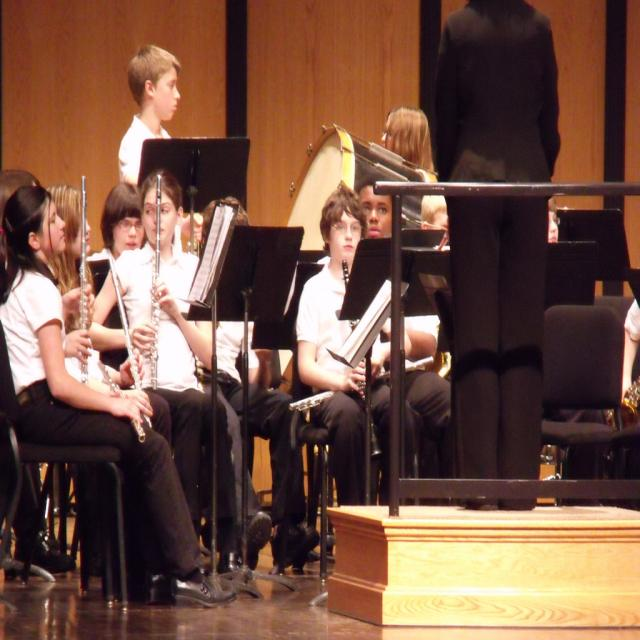clarinet: (339, 258, 384, 460)
